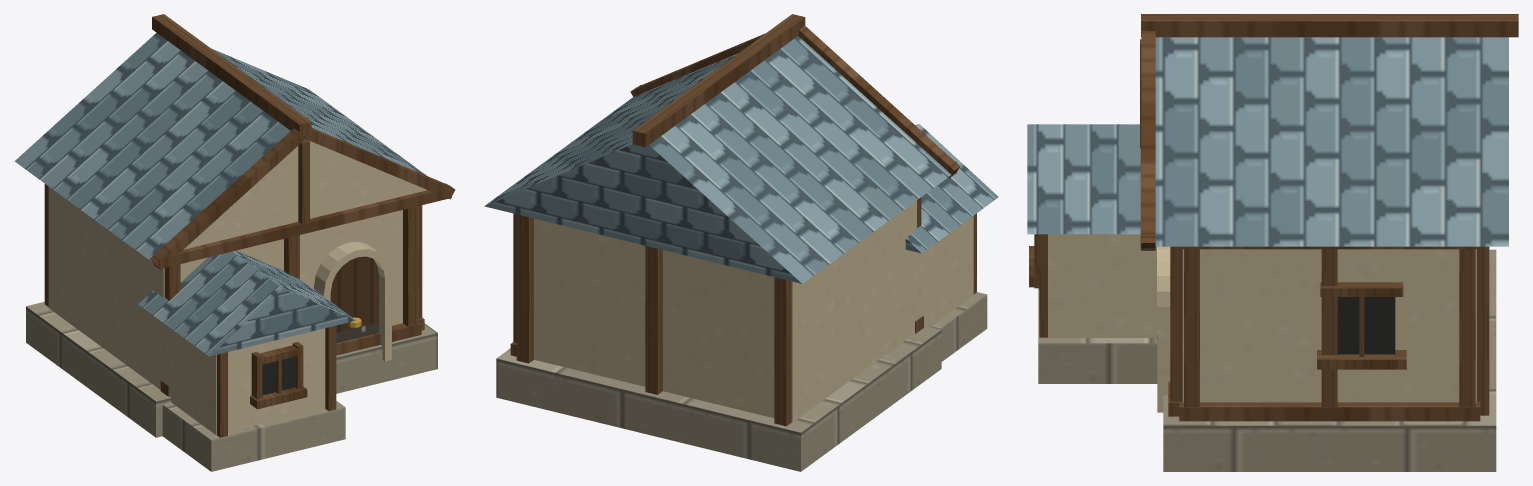
File: house.glb
3 views of the same model, side by side, from view 1: azimuth 30°, elevation 25°; view 2: azimuth 150°, elevation 25°; view 3: azimuth 270°, elevation 25° (orthographic). The views are drawn at different scales.
Visible parts, largest first — view 1: Building_Body.003; view 2: Building_Body.003; view 3: Building_Body.003.
Part boxes in pixels (box(x1,y1,x2,y2)): Building_Body.003: box(14, 14, 455, 471); Building_Body.003: box(484, 14, 998, 471); Building_Body.003: box(1027, 14, 1518, 471).
Bounding box in the file's own units: 1.38 × 1.26 × 1.53.
1 material, 1 textured.
